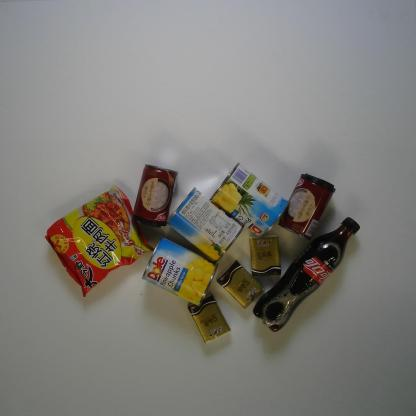Canned Food: (209, 161, 290, 238), (166, 186, 246, 263), (141, 235, 218, 307), (276, 172, 337, 241), (132, 162, 180, 229)
Drink: (252, 216, 361, 334)
Instant Noodles: (43, 184, 156, 300)
Tissue: (216, 259, 265, 309), (186, 293, 231, 345), (249, 233, 282, 278)
